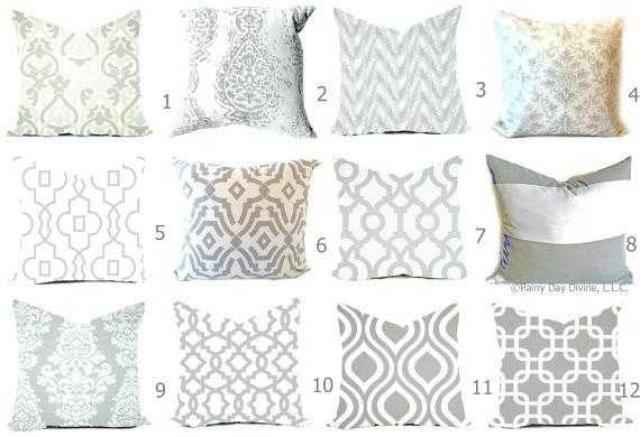pillow: (486, 155, 636, 291), (174, 4, 316, 138), (6, 8, 150, 136), (170, 158, 320, 280), (333, 156, 469, 290), (492, 10, 628, 139), (11, 296, 143, 428), (332, 4, 466, 134), (173, 298, 307, 426), (339, 302, 468, 430), (492, 305, 626, 426)
